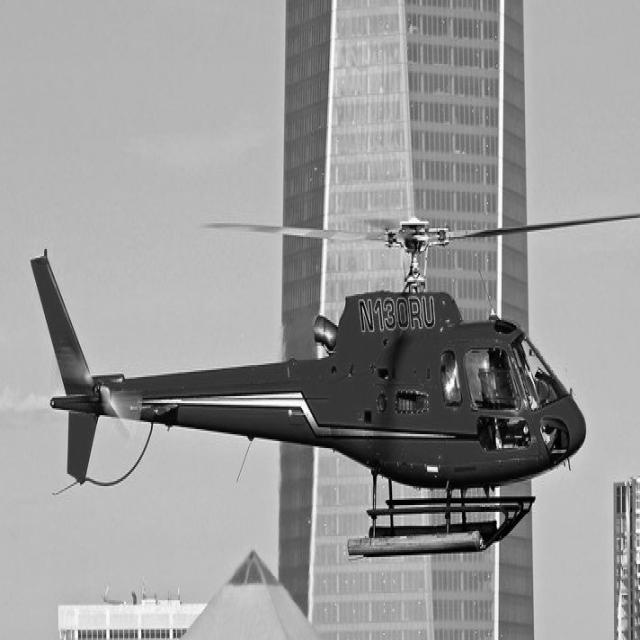helicopter: (20, 183, 640, 572)
